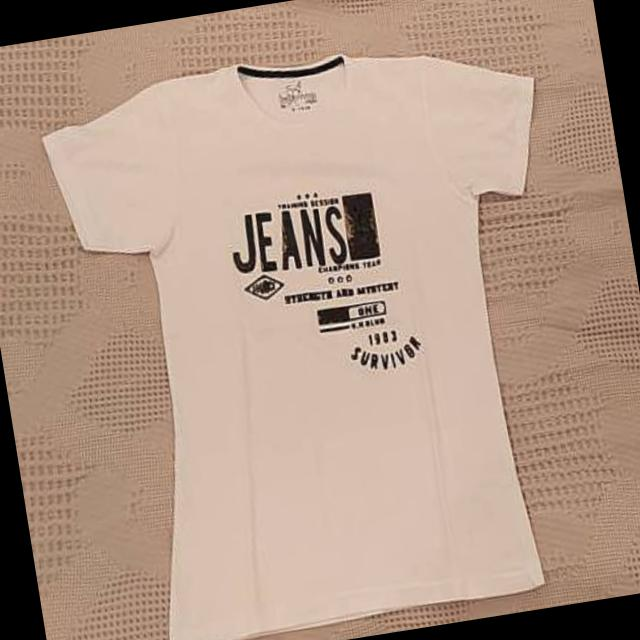T_SHIRT: (19, 8, 628, 640)
